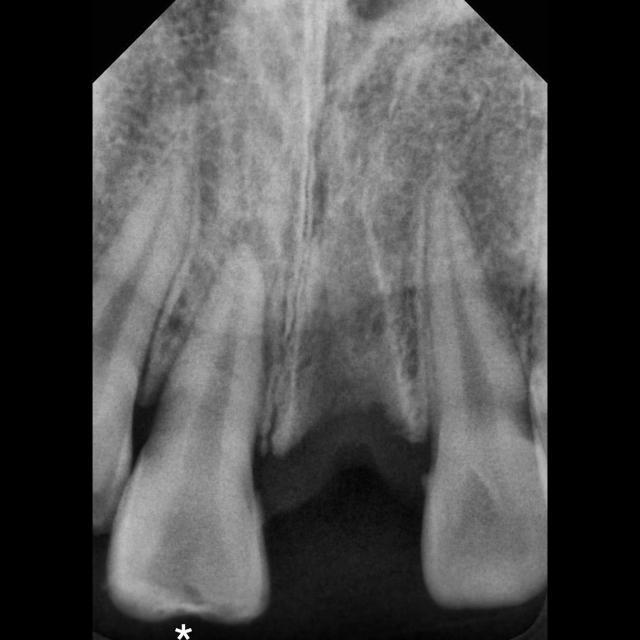test-segment: (109, 254, 269, 621)
